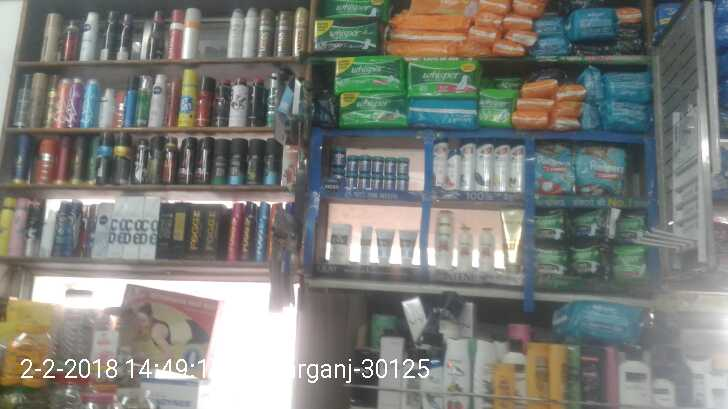beauty: (500, 205, 524, 271), (432, 200, 452, 264), (327, 222, 352, 262), (475, 144, 493, 190), (458, 140, 475, 188), (511, 140, 526, 192), (477, 225, 495, 268), (399, 227, 417, 269), (431, 141, 446, 191), (455, 225, 473, 264), (494, 144, 509, 190), (446, 151, 461, 193), (375, 229, 393, 264), (357, 221, 371, 262)
pharmacy: (569, 135, 632, 198), (407, 60, 482, 102), (334, 87, 408, 127), (332, 51, 406, 88), (532, 137, 576, 195), (314, 18, 376, 49), (606, 242, 653, 279), (571, 205, 614, 238), (570, 243, 599, 279), (535, 208, 567, 237), (537, 241, 562, 275), (326, 142, 347, 166), (370, 154, 384, 176), (355, 172, 370, 191), (383, 156, 397, 173), (397, 158, 410, 176), (344, 154, 357, 170), (383, 175, 396, 191), (356, 157, 369, 172), (369, 175, 382, 190), (344, 170, 355, 187), (398, 176, 409, 192)
